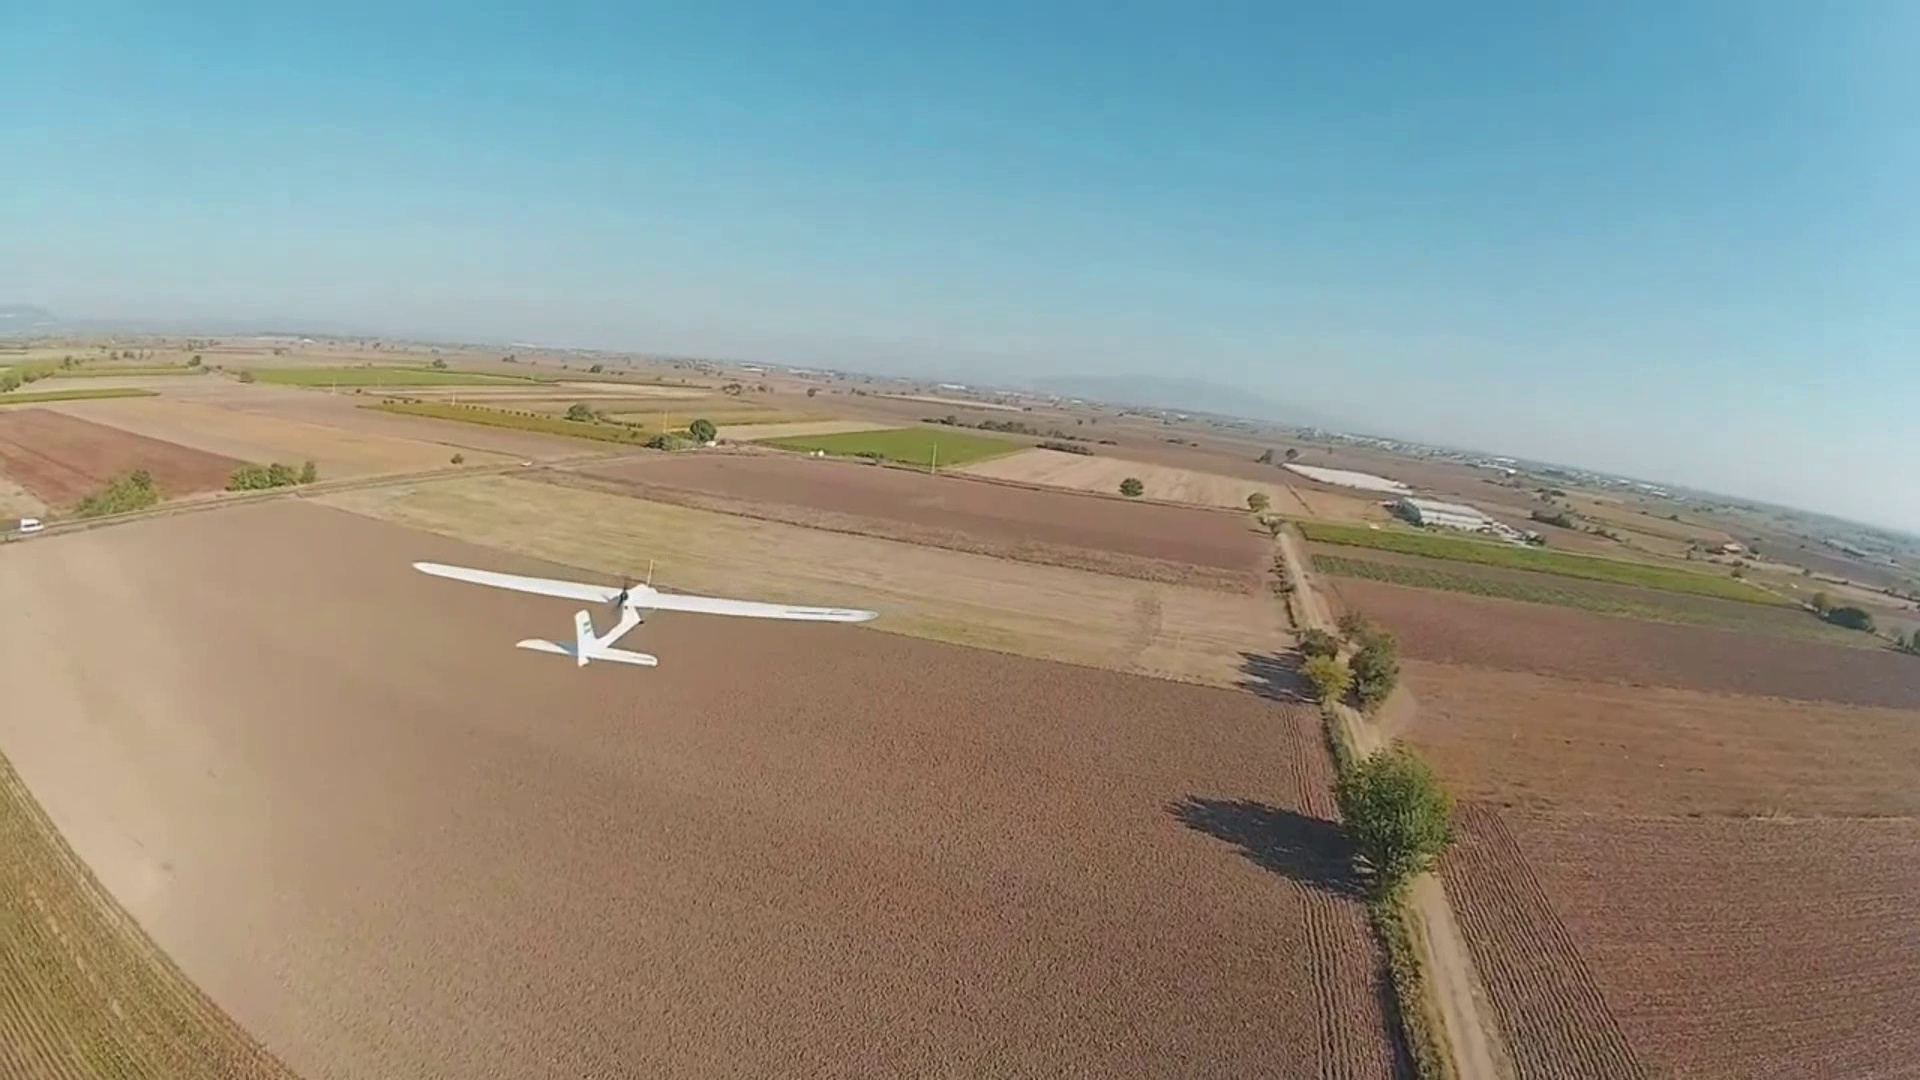airplane: (412, 555, 875, 671)
